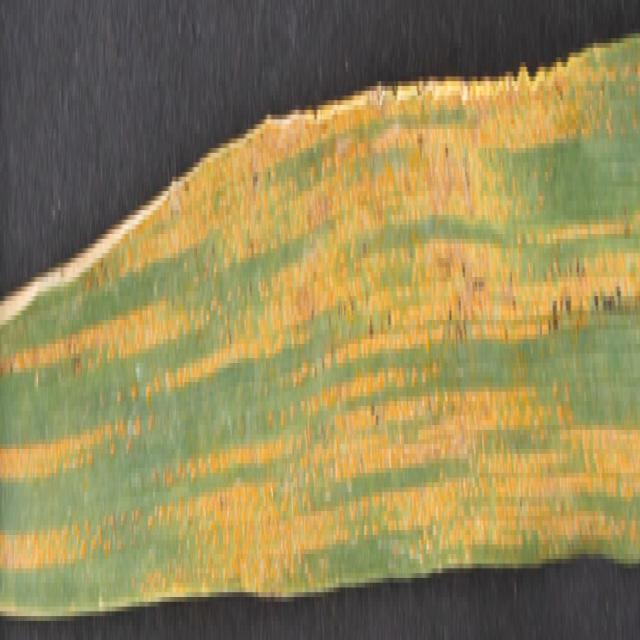leaf rust: (1, 48, 640, 611)
